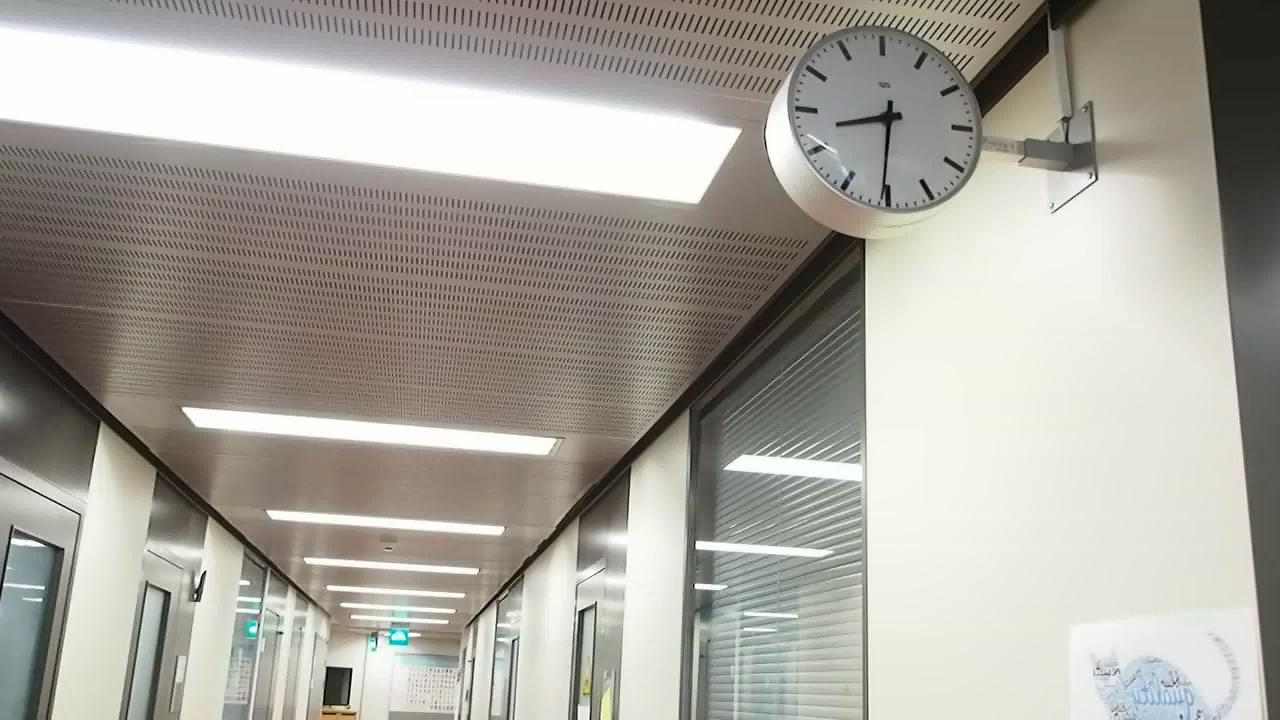clock: (770, 13, 993, 223)
